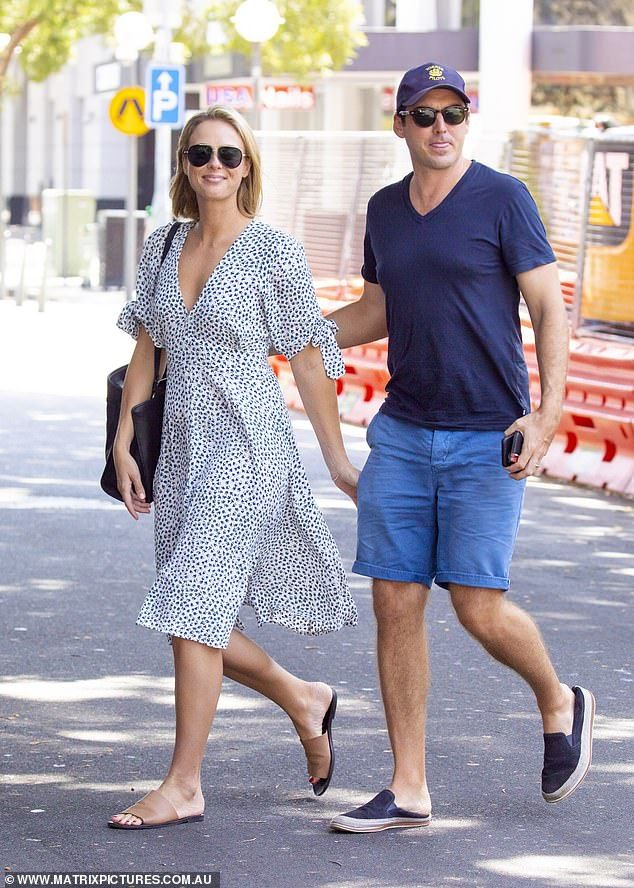Person: (344, 63, 597, 833), (111, 105, 345, 824)
